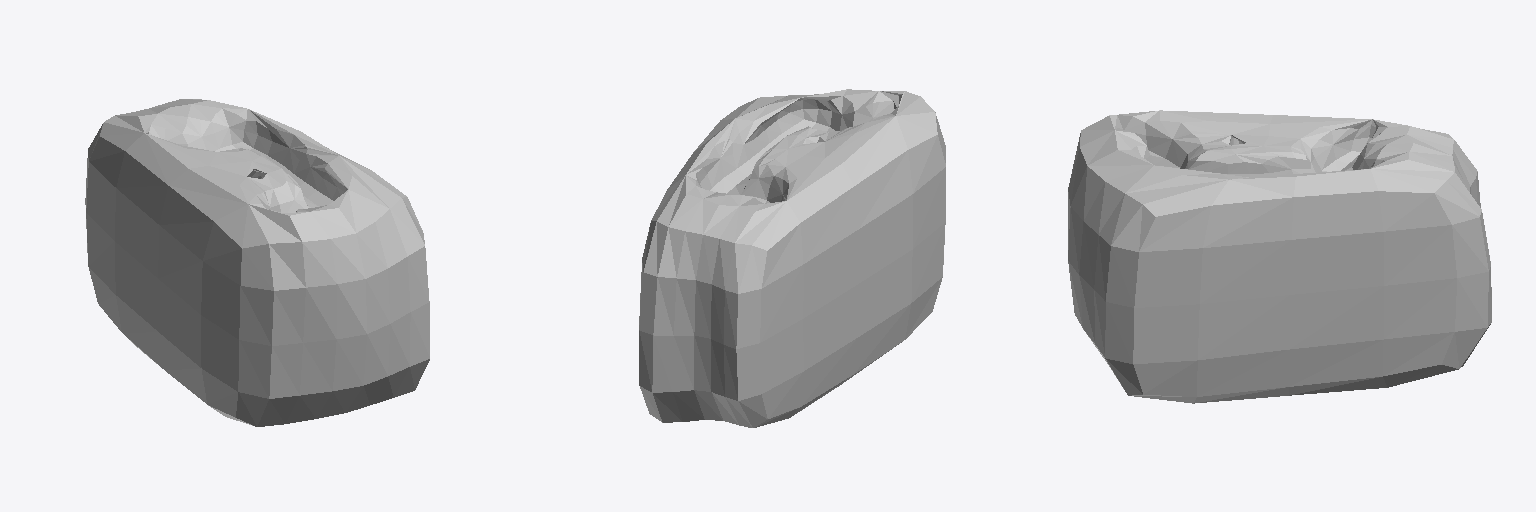
The model's file is Rune4.obj.
3 renders of one model, left to right at view 1: azimuth 30°, elevation 25°; view 2: azimuth 150°, elevation 25°; view 3: azimuth 270°, elevation 25°, orthographic.
Parts seen in each view (by area): view 1: Rune4; view 2: Rune4; view 3: Rune4.
Boxes of the visible parts, <box> form: Rune4: <box>85,99,429,426</box>; Rune4: <box>639,89,945,427</box>; Rune4: <box>1068,110,1491,403</box>.
Bounding box in the file's own units: 3.5 × 3.86 × 6.44.